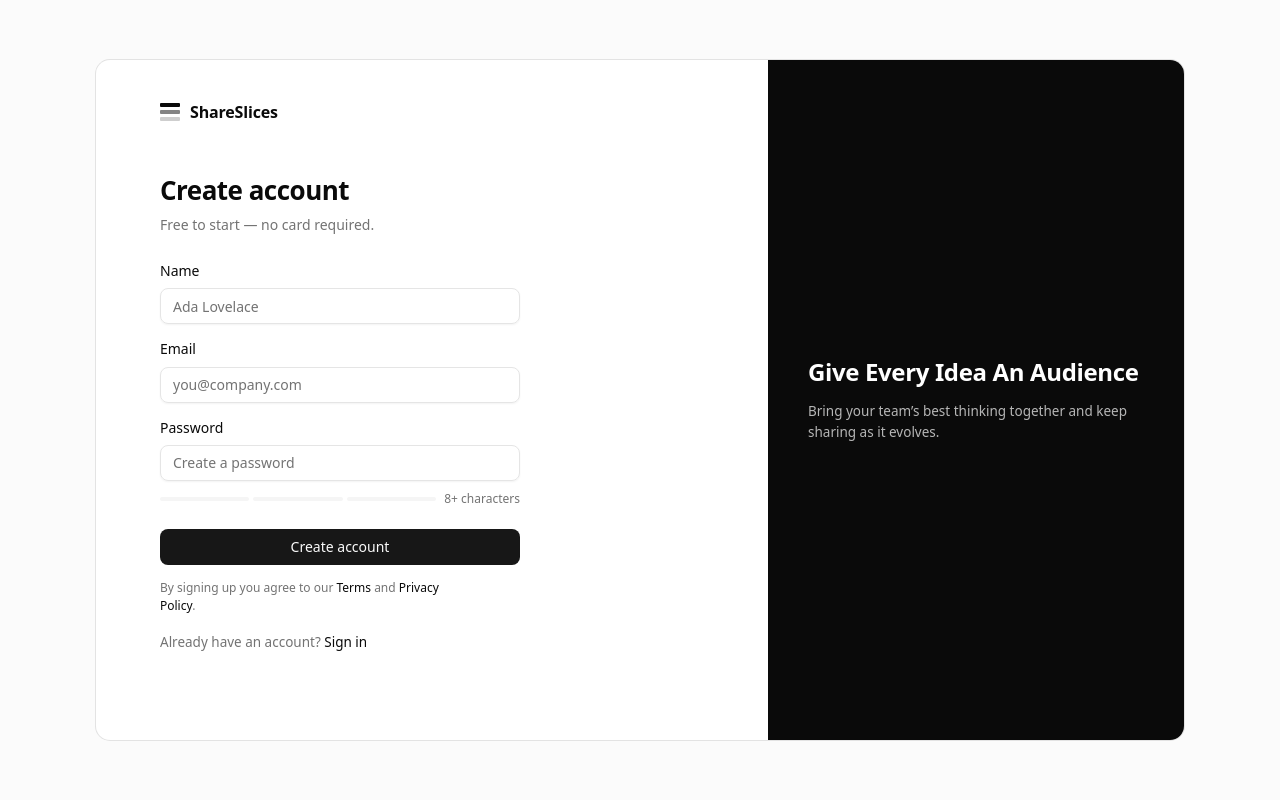
account entry screens › shows field feedback for invalid sign-up input
Click the button "Create account" at x=340, y=547, box [160,529,520,565]
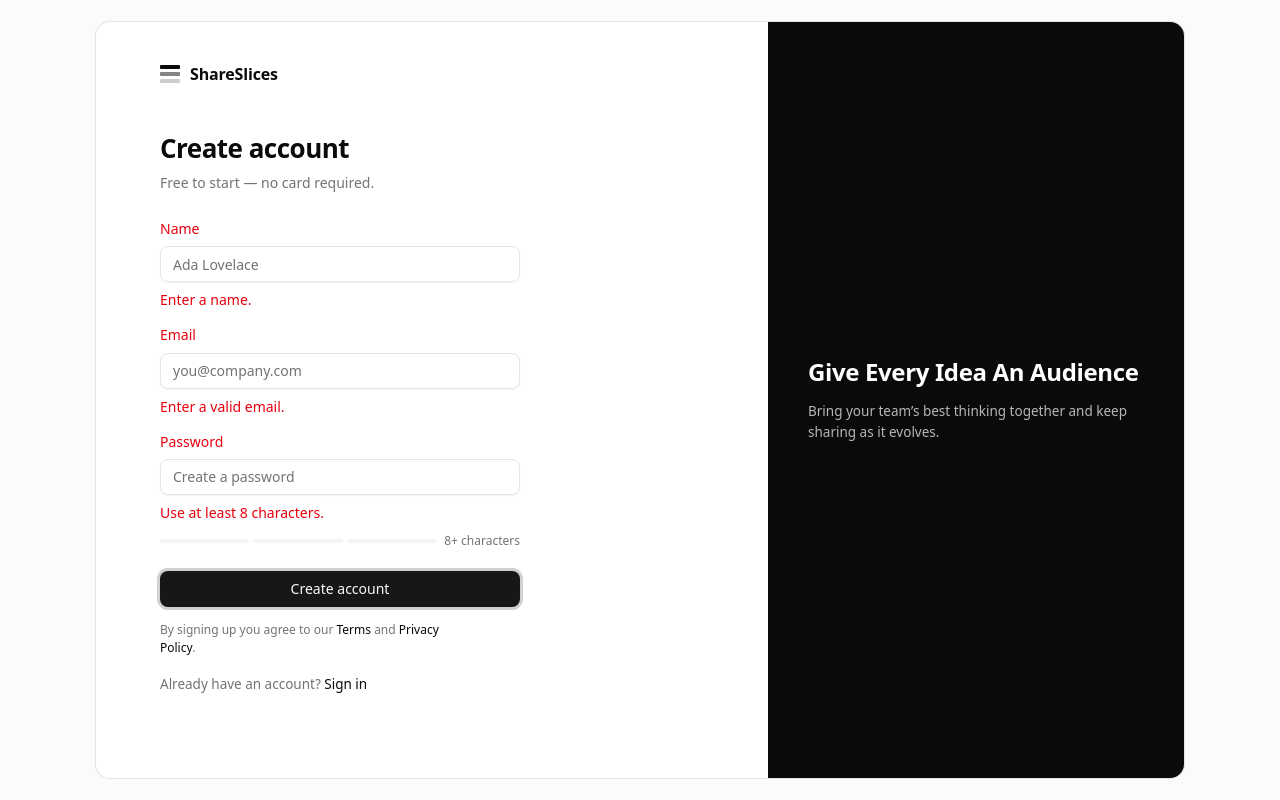
Expected: the text "Enter a name." is shown, [160,290,252,310]
Expected: the text "Enter a valid email." is shown, [160,397,285,416]
Expected: the text "Use at least 8 characters." is shown, [160,503,324,522]
